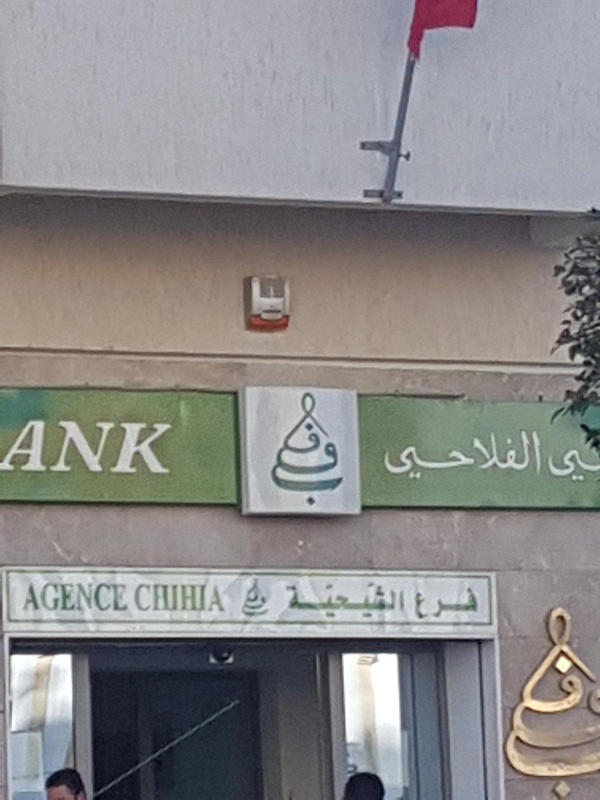text: (513, 606, 528, 800), (529, 606, 544, 800), (545, 606, 560, 800), (561, 606, 576, 800), (577, 606, 592, 800), (273, 387, 288, 508), (289, 387, 304, 508), (305, 387, 320, 508), (321, 387, 336, 508), (503, 606, 512, 800), (593, 606, 600, 800), (1, 419, 16, 475), (17, 419, 32, 475), (33, 419, 48, 475), (49, 419, 64, 475), (65, 419, 80, 475), (81, 419, 96, 475), (97, 419, 112, 475), (113, 419, 128, 475), (129, 419, 144, 475), (145, 419, 160, 475), (385, 429, 400, 480), (401, 429, 416, 480), (417, 429, 432, 480), (433, 429, 448, 480), (449, 429, 464, 480), (465, 429, 480, 480), (481, 429, 496, 480), (497, 429, 512, 480), (513, 429, 528, 480), (161, 419, 173, 475), (529, 429, 542, 480), (337, 387, 342, 508), (241, 577, 256, 616), (289, 580, 304, 618), (305, 580, 320, 618), (321, 580, 336, 618), (337, 580, 352, 618), (353, 580, 368, 618), (369, 580, 384, 618), (385, 580, 400, 618), (561, 449, 576, 482), (417, 587, 432, 619), (433, 587, 448, 619), (449, 587, 464, 619), (257, 577, 269, 616), (33, 582, 48, 612), (49, 582, 64, 612), (65, 582, 80, 612), (81, 582, 96, 612), (97, 582, 112, 612), (113, 582, 128, 612), (465, 587, 479, 619), (145, 584, 160, 611), (161, 584, 176, 611), (177, 584, 192, 611), (193, 584, 208, 611), (209, 584, 224, 611), (577, 449, 589, 482), (549, 449, 560, 482), (134, 584, 144, 611), (25, 582, 32, 612), (401, 580, 405, 618), (271, 387, 272, 508), (286, 580, 288, 618), (414, 587, 416, 619)
